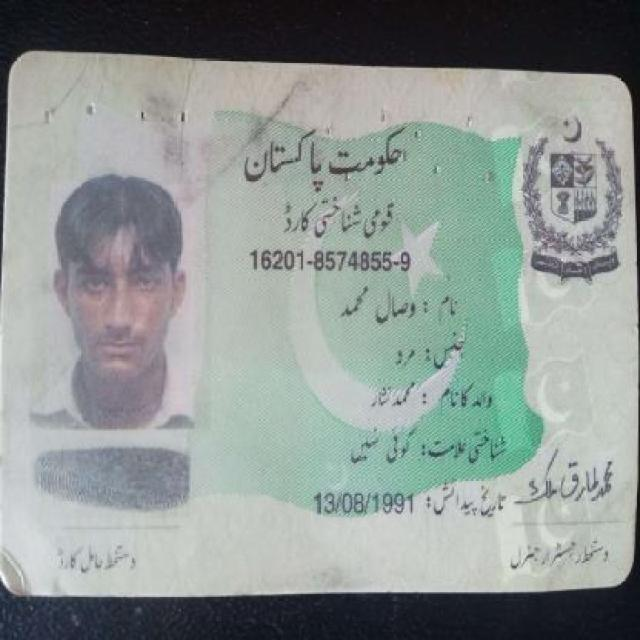Front: (7, 42, 636, 596)
